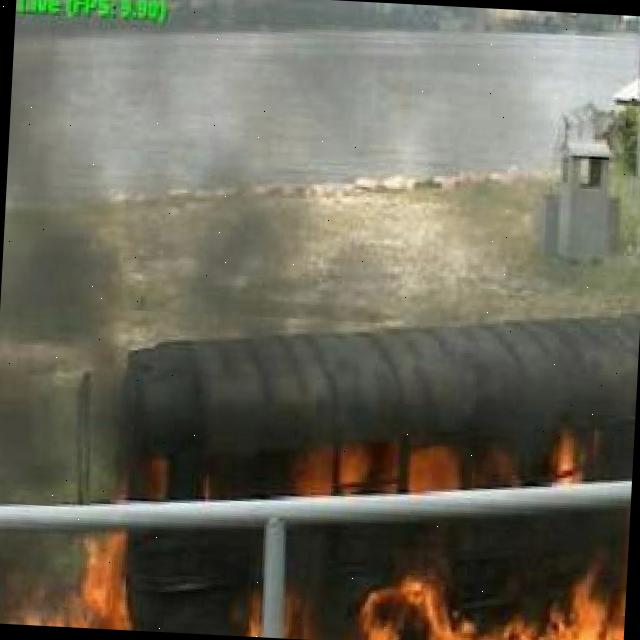fire: (358, 560, 627, 640), (0, 525, 131, 630), (292, 439, 492, 502), (109, 467, 198, 510), (244, 592, 312, 640)
